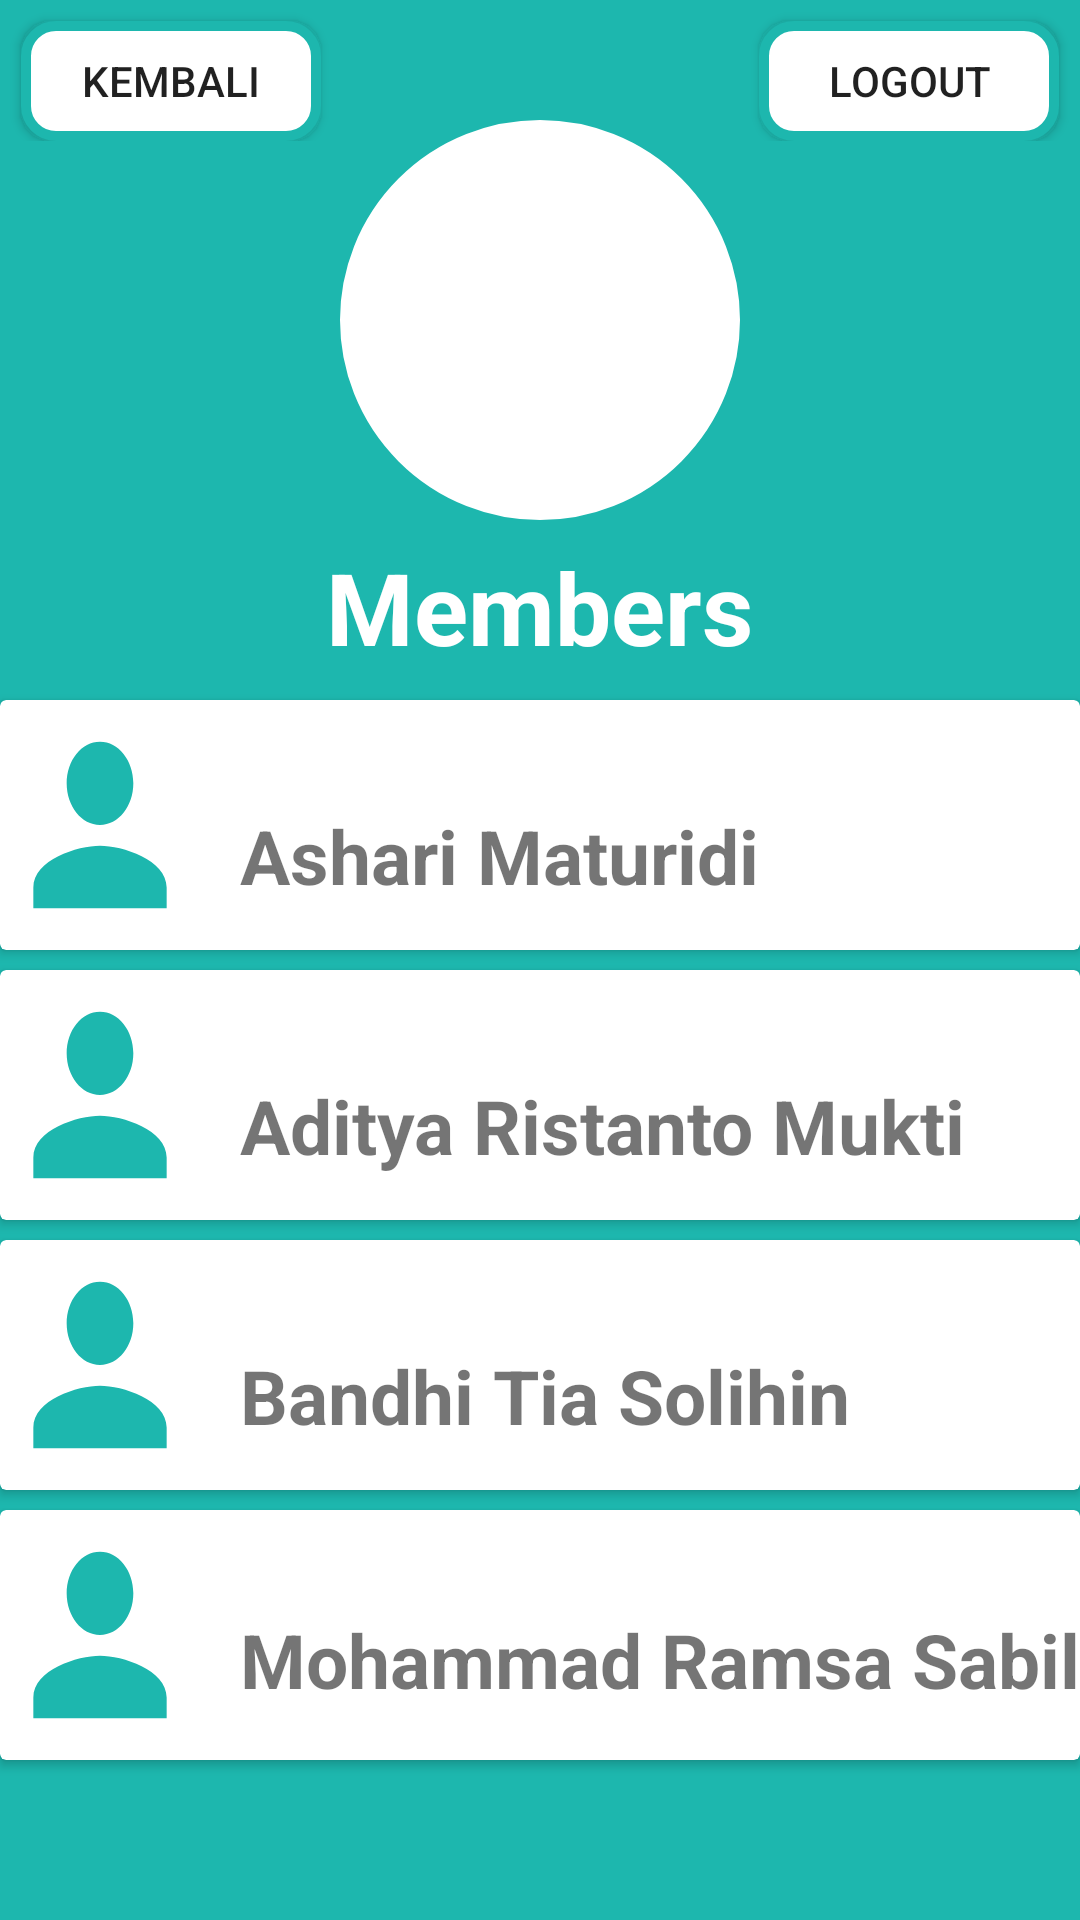

Icon bounding boxes for this 1080×1920 phone screenshot, format (x1,y1,x2,y2):
person: (33,741,167,909), (33,1011,167,1179), (33,1281,167,1449), (33,1551,167,1719)
